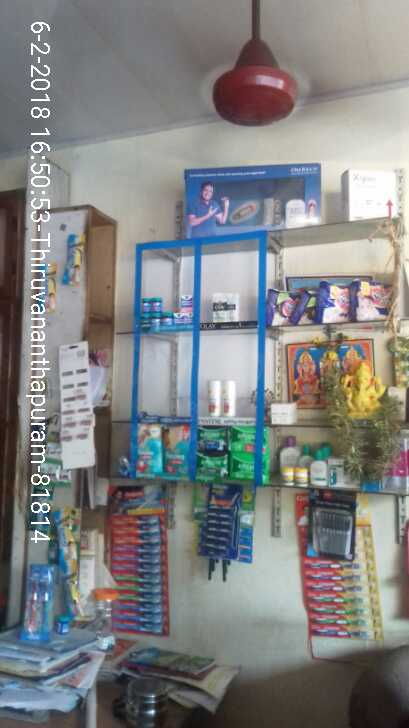oralcare: (22, 564, 56, 643)
vicks: (138, 291, 197, 333)
